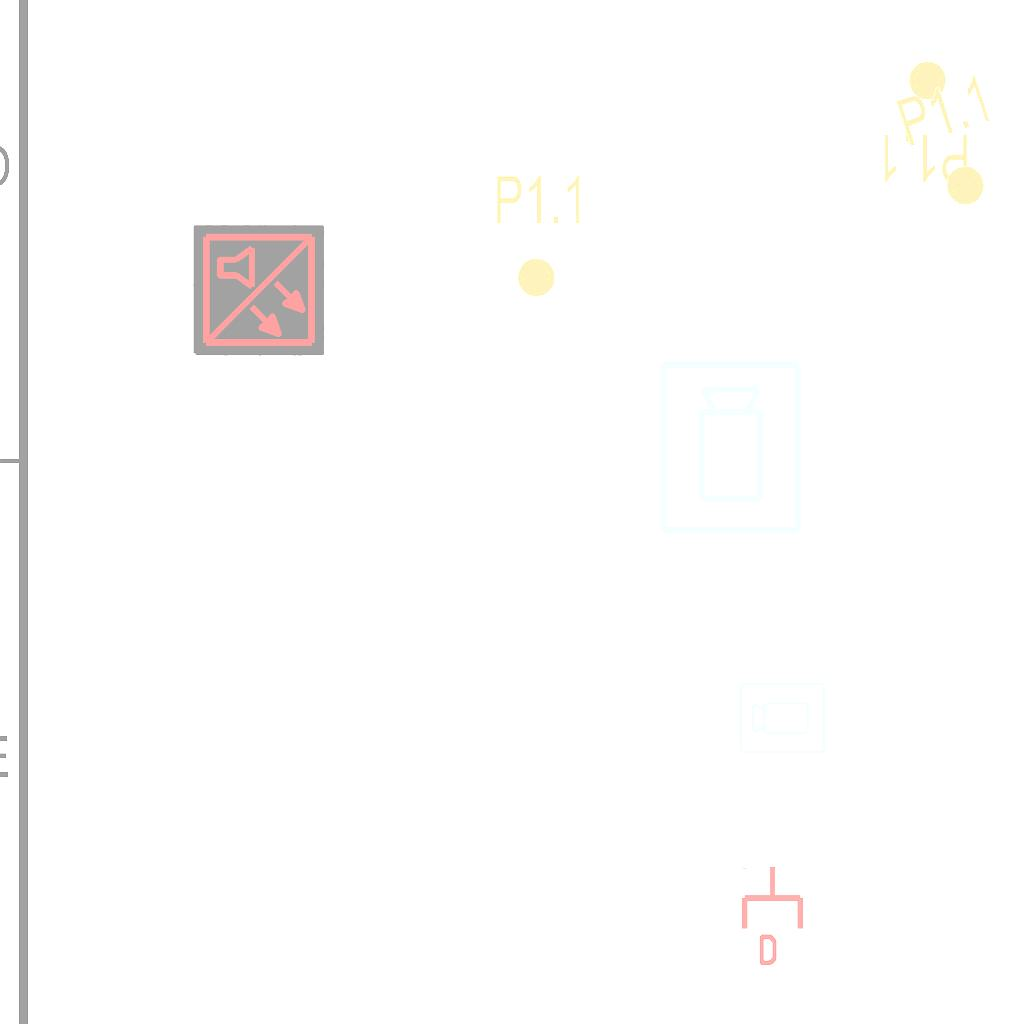Datenanschluss_einfach: (738, 865, 807, 965)
Downlight_LED_Einbauleuchten_Flur: (891, 69, 1020, 221), (878, 58, 971, 186), (493, 172, 586, 300)
KFO_Kamera_mit_Festobjektiv: (655, 357, 809, 539), (737, 679, 828, 756)
OKW_Multisensormelder_(Kombination_optischer_Rauch-Kahlenmonoxid_Waerme-Melder): (193, 225, 325, 357)
